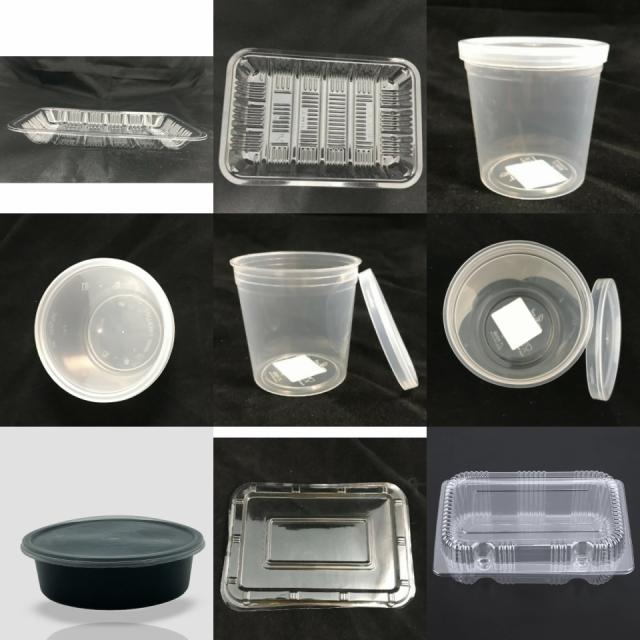Single-Use-Plastic: (219, 49, 422, 188), (221, 482, 415, 610), (459, 36, 609, 198), (434, 471, 632, 584), (444, 241, 592, 387), (35, 258, 175, 402), (230, 251, 361, 396), (21, 516, 205, 609), (8, 108, 208, 149), (359, 269, 419, 390), (586, 279, 621, 401)
